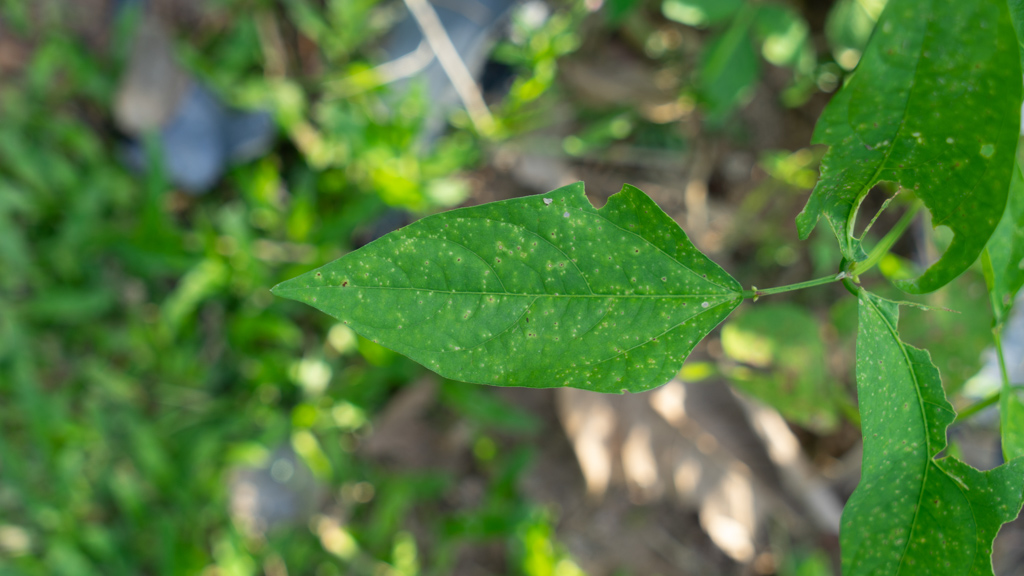Rust: (277, 185, 735, 392), (856, 317, 966, 564)
